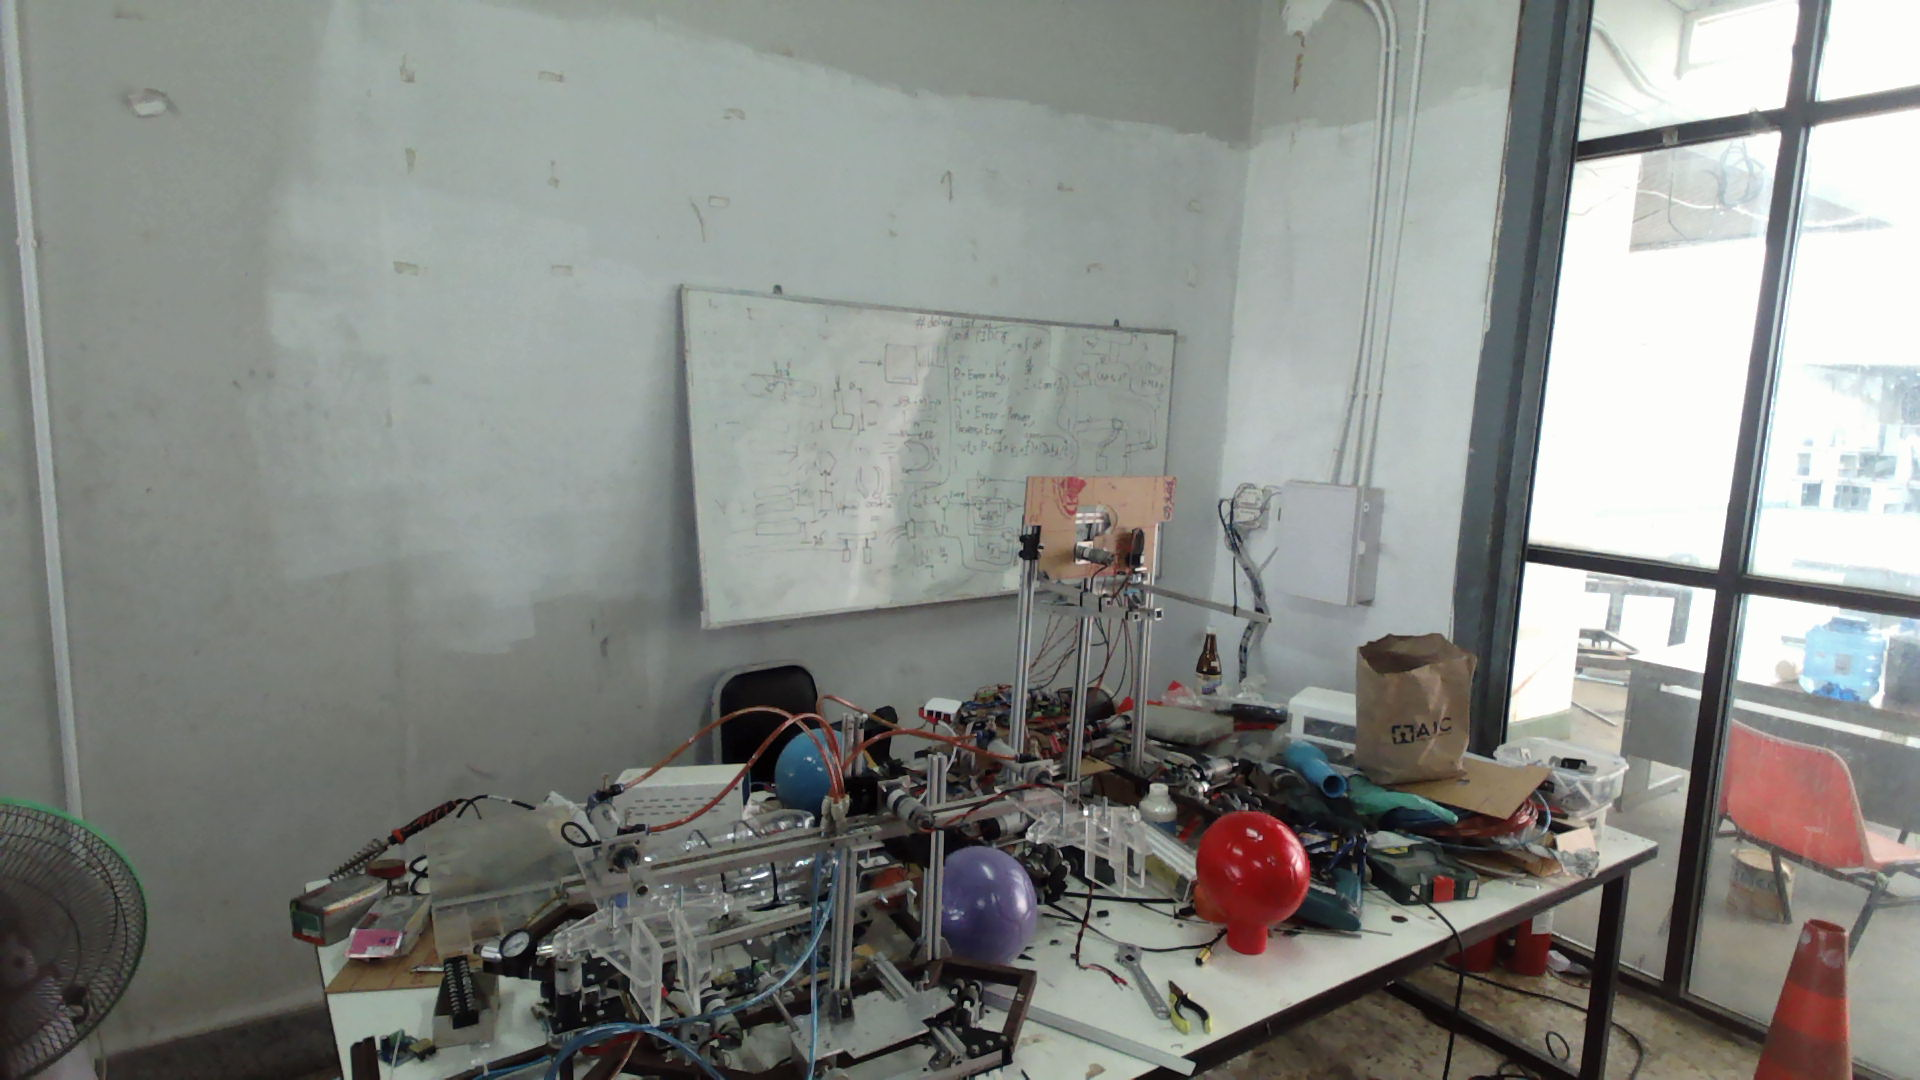Blue ball: (775, 725, 851, 815)
Purple ball: (939, 844, 1039, 967)
Red ball: (1193, 808, 1312, 928)
